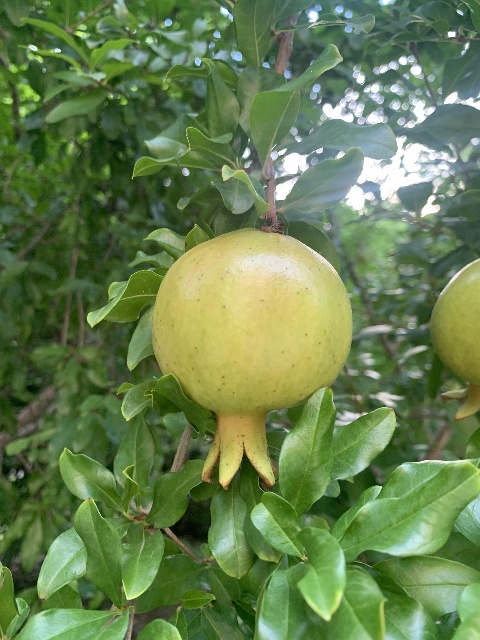mid-growth: (151, 229, 353, 491)
